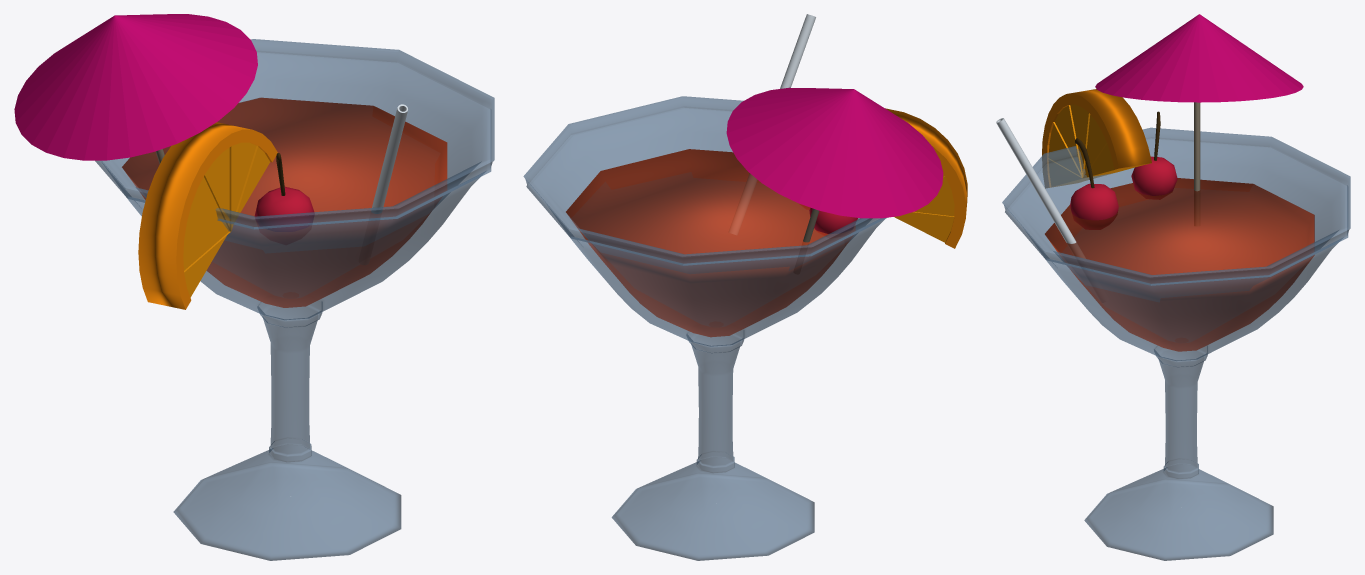
The model's file is asset.gltf.
The picture shows the model from 3 angles, left to right: view 1: azimuth 30°, elevation 25°; view 2: azimuth 150°, elevation 25°; view 3: azimuth 270°, elevation 25°; orthographic projection. The views are drawn at different scales.
Visible parts, largest first — view 1: glass, drink, umbrellatop, orangerind, orangecenter, cherry2, straw; view 2: glass, drink, umbrellatop, orangerind, orangecenter, straw, cherry; view 3: glass, drink, umbrellatop, orangerind, orangecenter, cherry2, straw, cherry, umbrellastick.
Boxes of the visible parts, x1,y1,x2,y2 form: glass: [95, 39, 494, 560]; drink: [122, 97, 447, 307]; umbrellatop: [14, 14, 257, 160]; orangerind: [138, 122, 277, 309]; orangecenter: [183, 142, 269, 297]; cherry2: [254, 186, 314, 231]; straw: [361, 104, 407, 264]; glass: [523, 96, 887, 560]; drink: [566, 149, 855, 337]; umbrellatop: [726, 87, 943, 218]; orangerind: [885, 108, 967, 248]; orangecenter: [894, 174, 954, 242]; straw: [729, 14, 815, 234]; cherry: [809, 208, 857, 235]; glass: [1002, 127, 1350, 560]; drink: [1045, 178, 1314, 351]; umbrellatop: [1095, 14, 1303, 102]; orangerind: [1042, 89, 1151, 188]; orangecenter: [1048, 104, 1143, 186]; cherry2: [1070, 183, 1118, 229]; straw: [996, 118, 1085, 258]; cherry: [1131, 156, 1177, 199]; umbrellastick: [1194, 102, 1200, 226].
Size of the model in its own units: 338 by 395 by 289.
